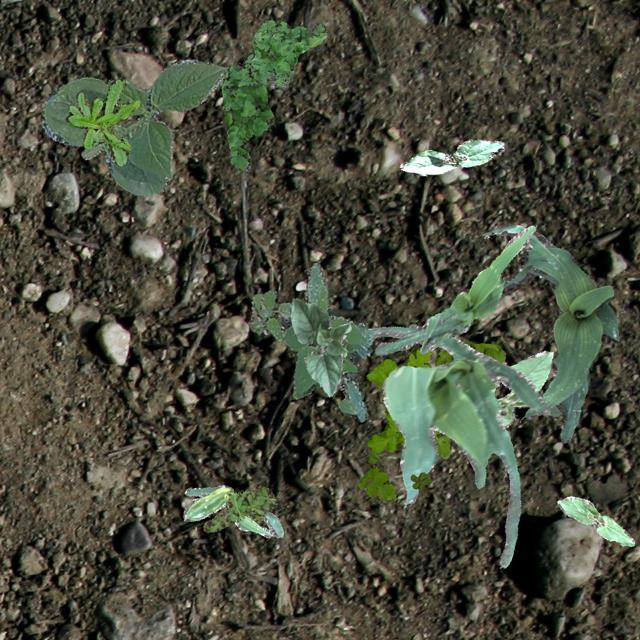crop: (367, 326, 549, 566), (482, 223, 618, 442), (41, 59, 228, 194), (373, 224, 534, 354), (288, 298, 349, 396), (182, 484, 282, 536), (494, 349, 552, 426), (556, 496, 634, 546), (398, 138, 504, 174)
weed: (356, 340, 504, 502), (248, 262, 372, 422), (64, 78, 140, 164), (220, 52, 272, 172), (250, 20, 326, 89), (202, 486, 274, 532), (410, 472, 430, 489)
